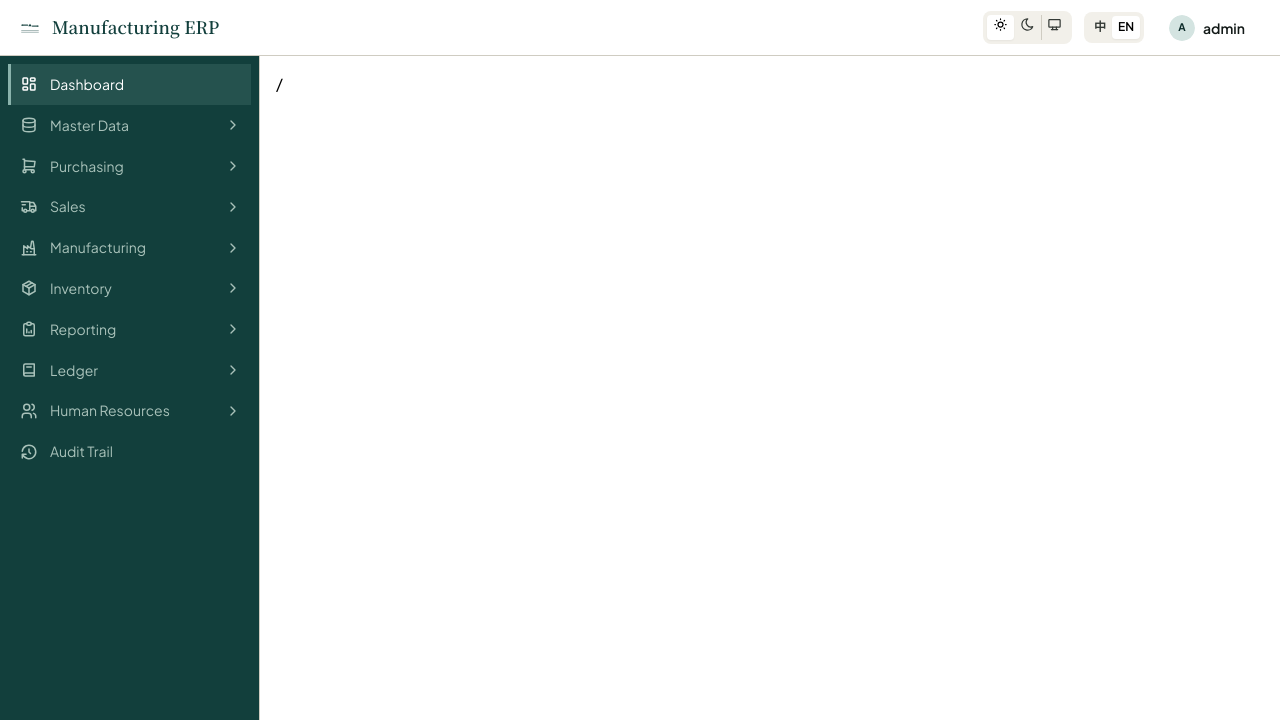
Test: AppLayout navigation (ERP-001) › navigates to a module when its parent nav item is clicked
The width and height of the screenshot is (1280, 720).
Expected: the text with test id "loc" reads "/", [276,73,283,94]
What coordinates should you click on to do the following:
click the link "Purchasing"
I would click on:
 (72, 166)
Its box is [20,157,124,175].
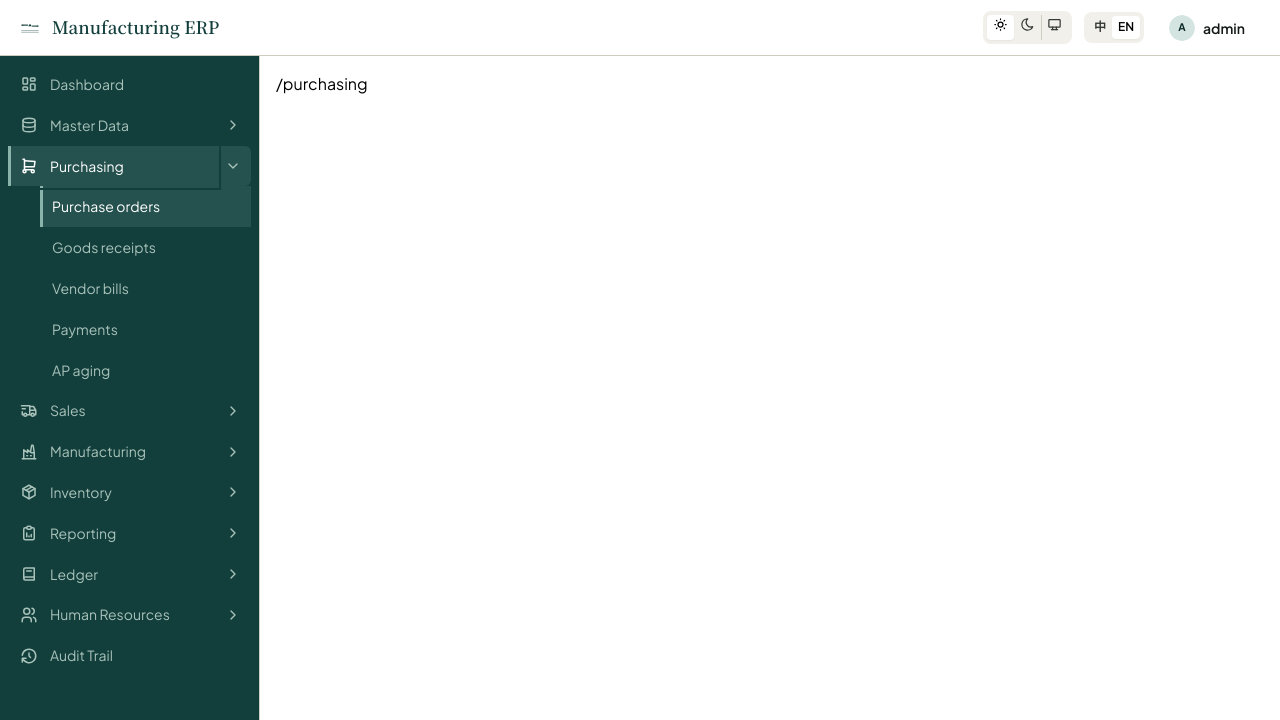
Now the text with test id "loc" reads "/purchasing", box [276,73,368,94]
